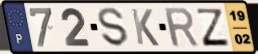2: (60, 6, 93, 49)
7: (27, 7, 54, 48)
K: (129, 8, 161, 48)
R: (162, 6, 201, 49)
S: (97, 6, 131, 48)
Z: (195, 8, 232, 48)
